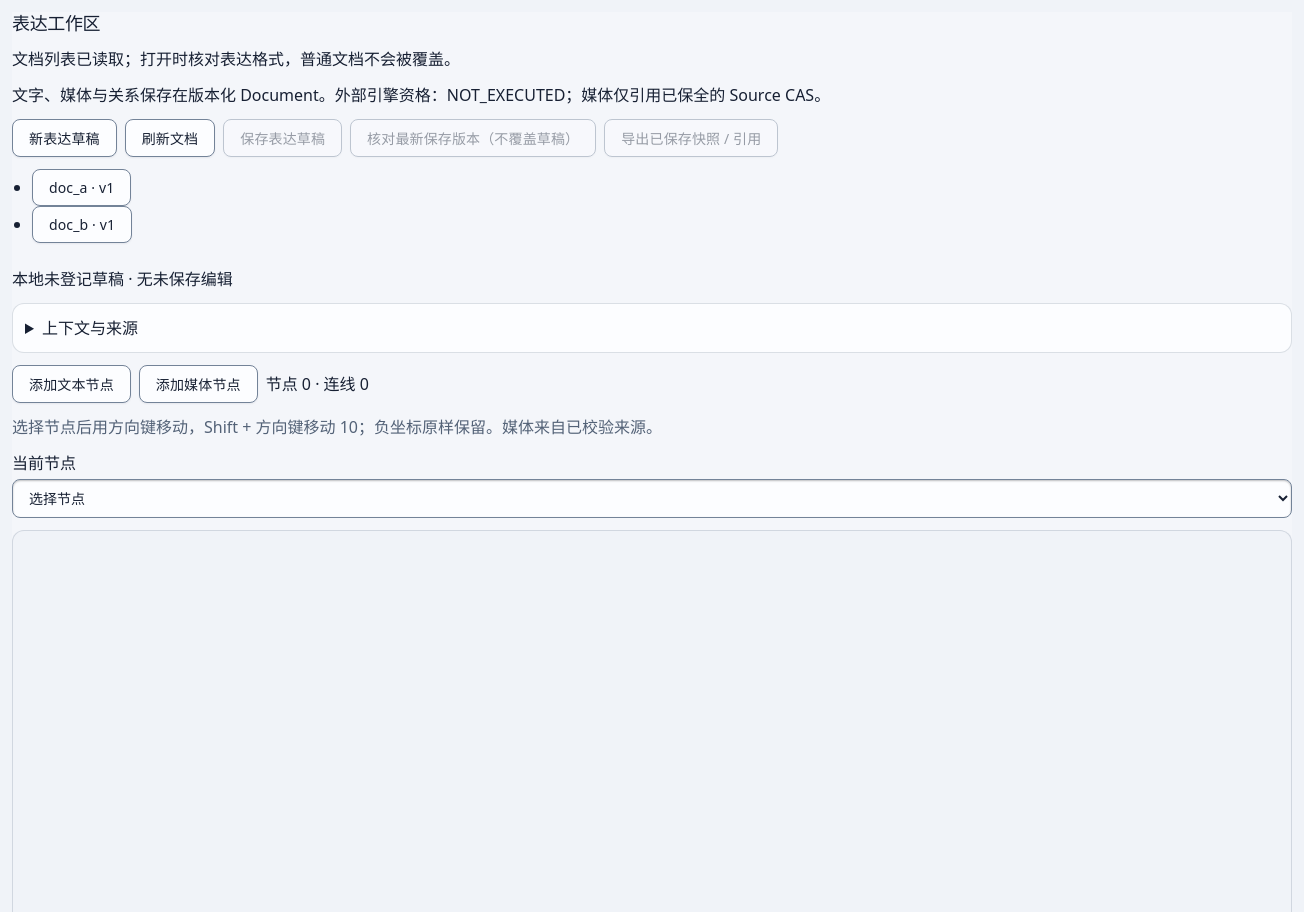
late successful save updates base version without replacing newly edited board
Click the button "doc_a · v1" at (82, 187), box [32,168,132,206]
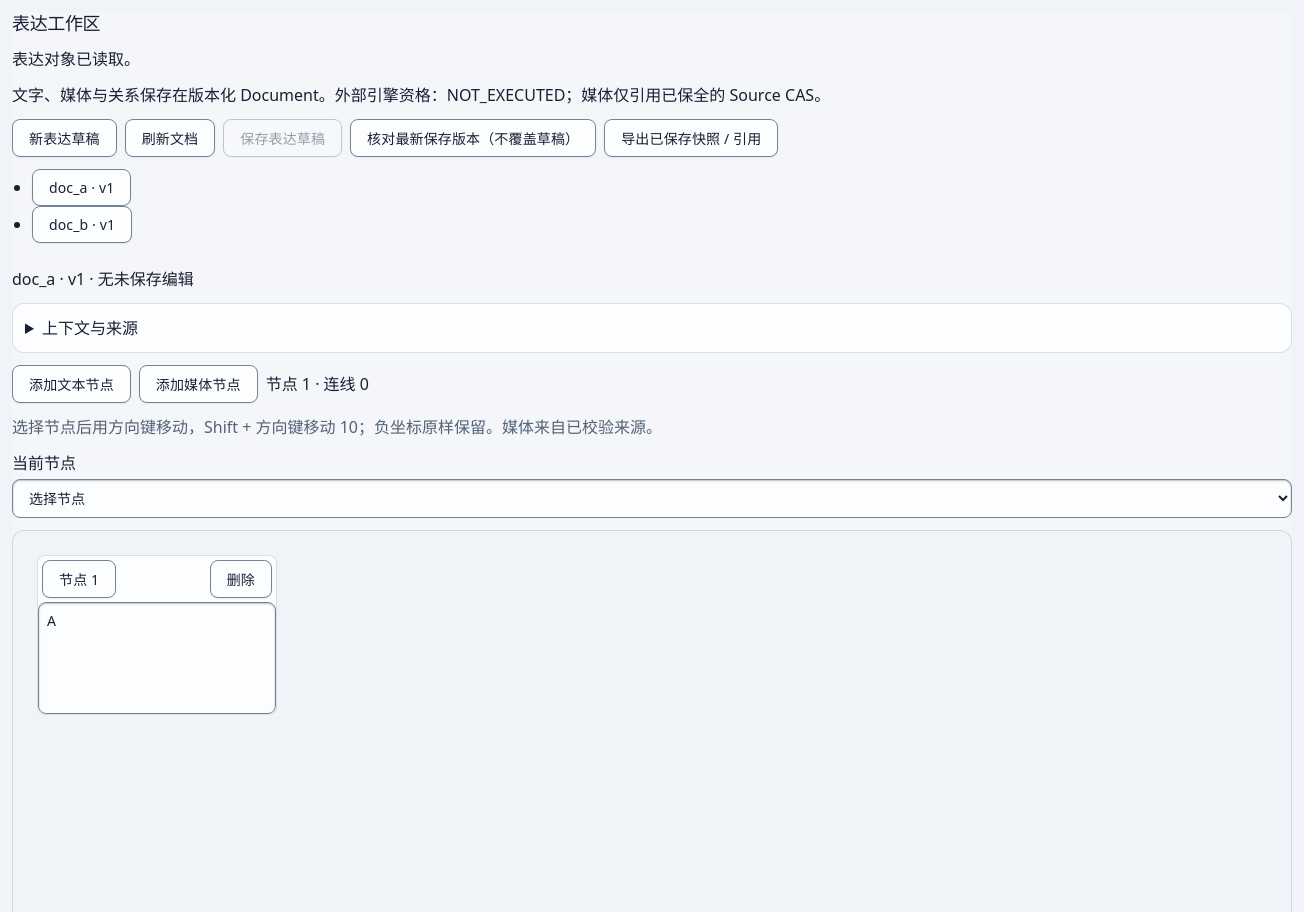
Result: the text box named "节点文字 1" holds "A"
Replace the text in the text box named "节点文字 1" with "SEND" at (157, 658), box [38,602,276,714]
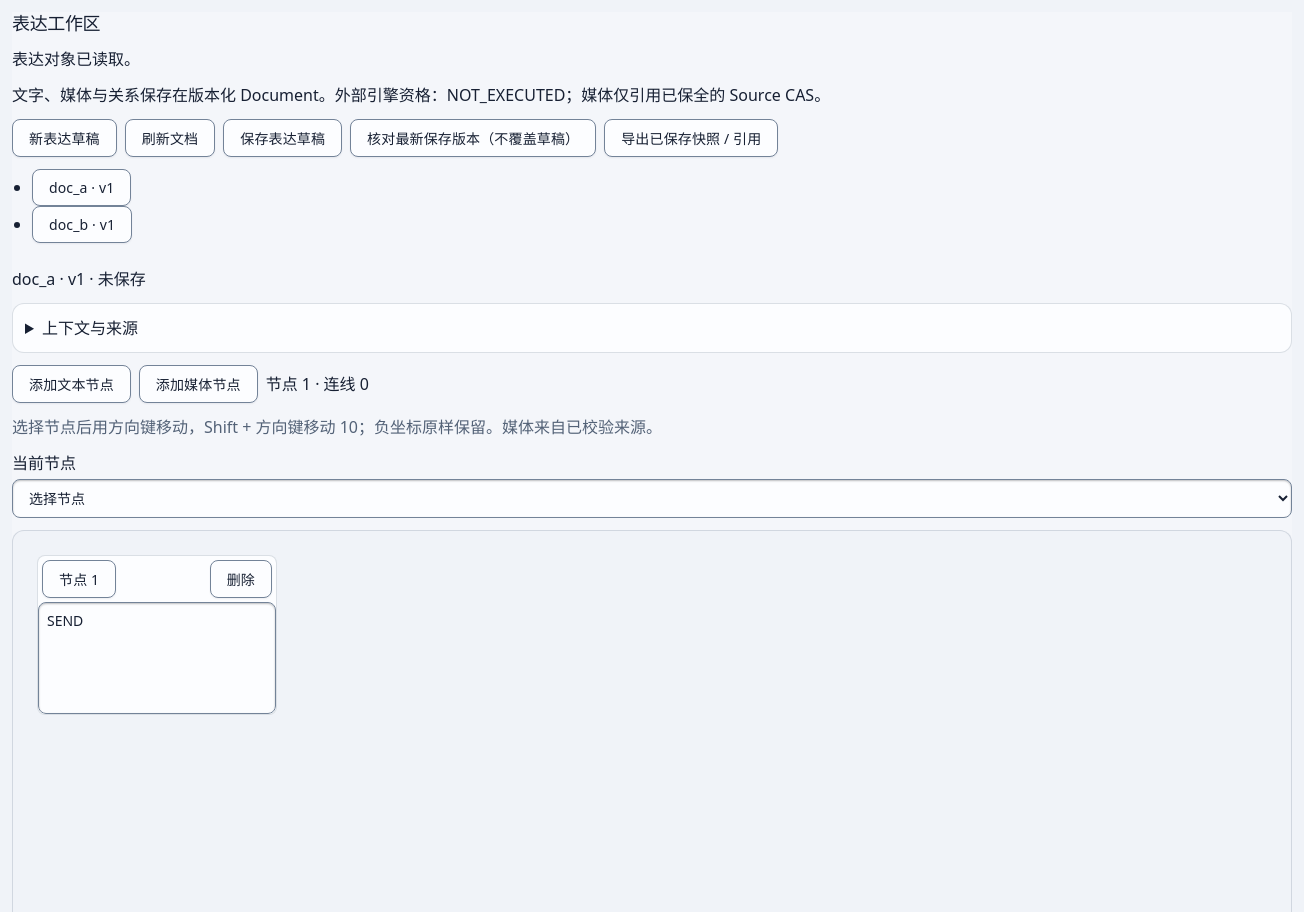
Click the button "保存表达草稿" at (283, 138), box [223,118,342,156]
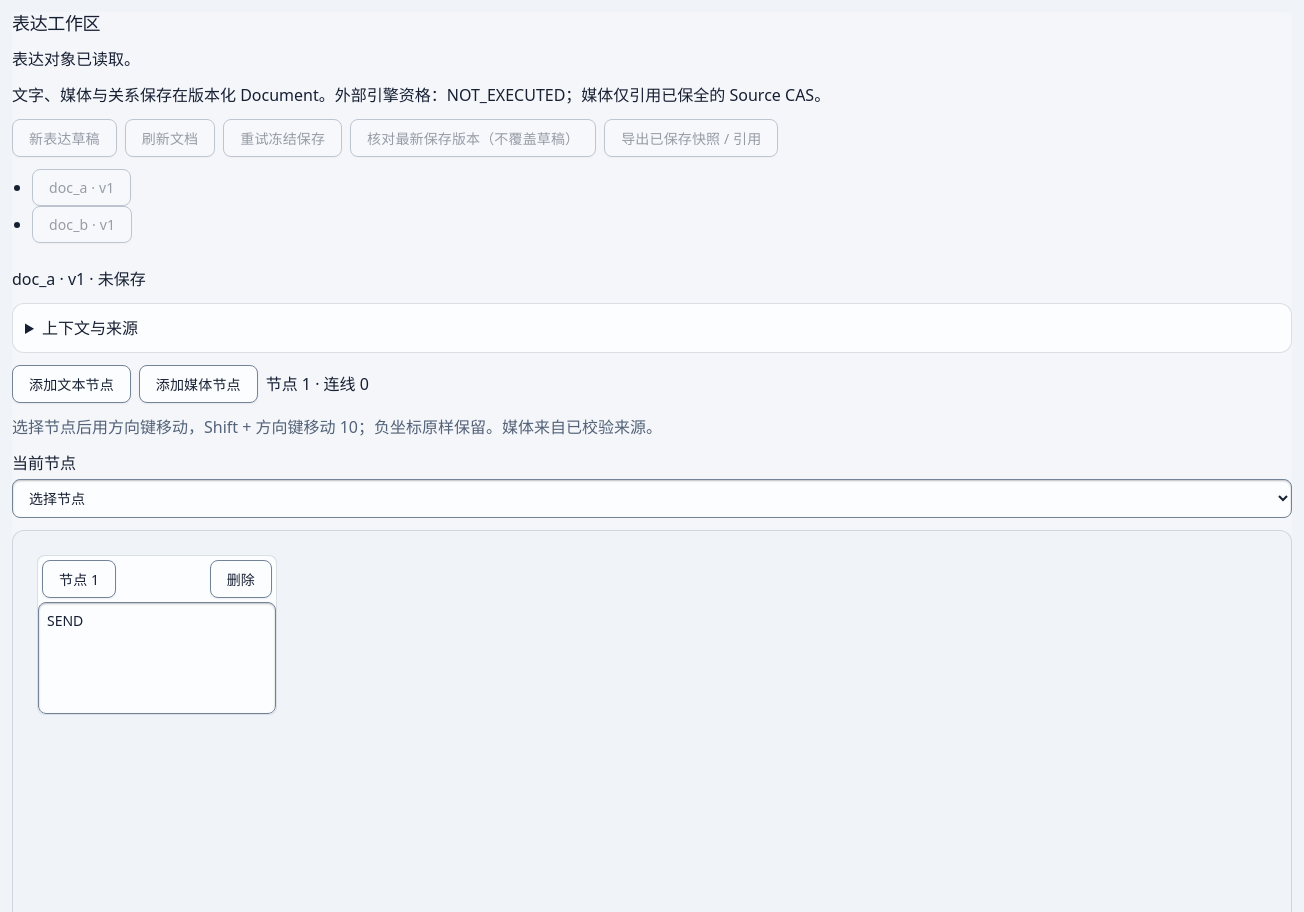
Replace the text in the text box named "节点文字 1" with "LATER" at (157, 658), box [38,602,276,714]
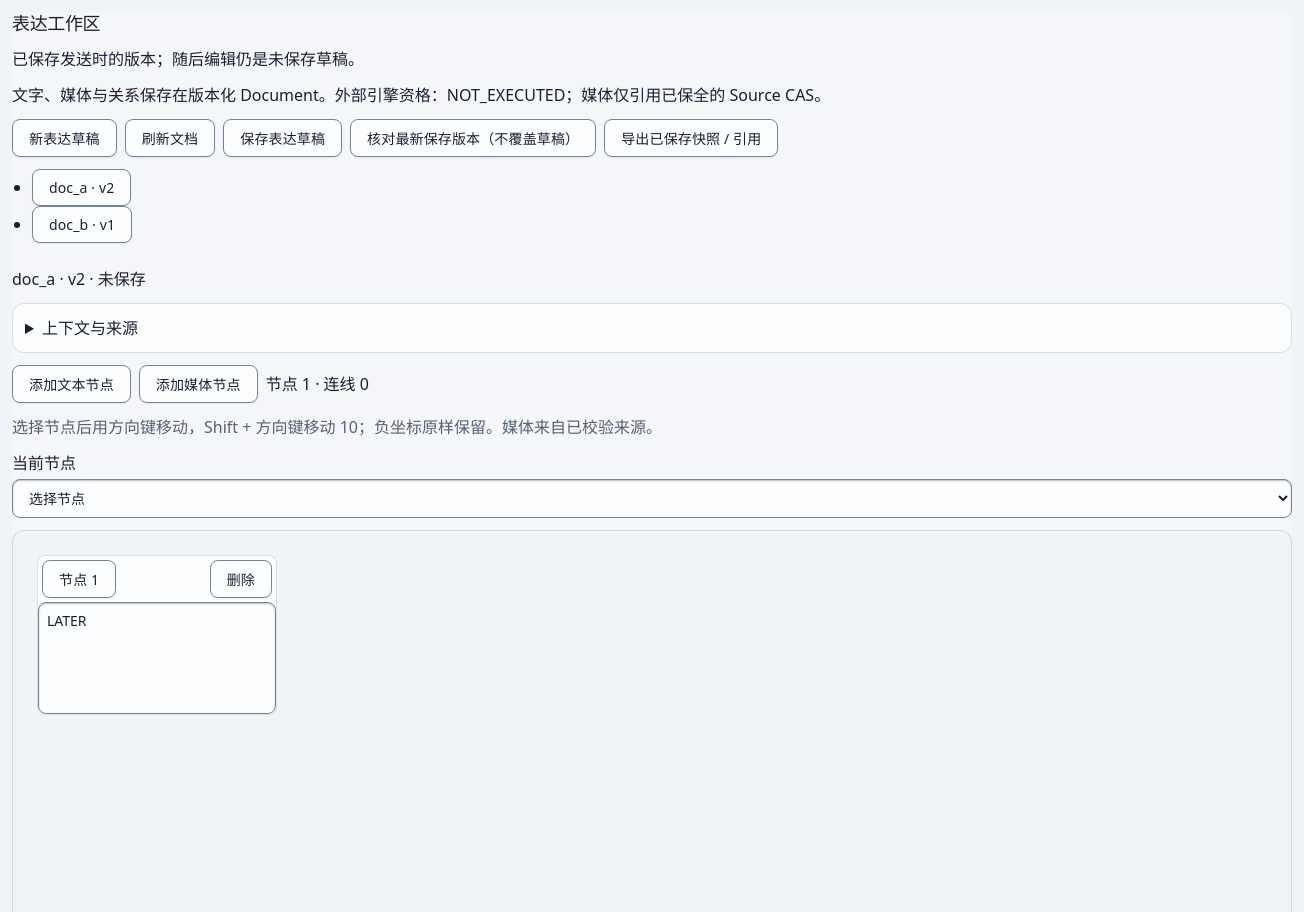
Result: the text "已保存发送时的版本；随后编辑仍是未保存草稿。" is shown at [12,48,364,70]
